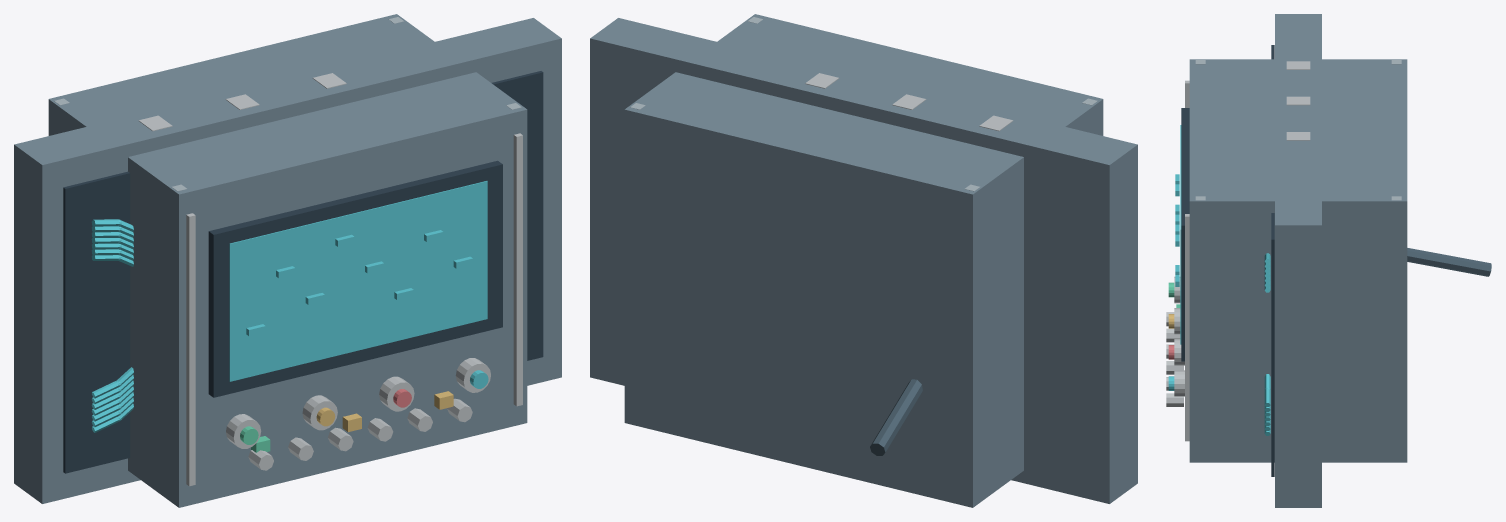
File: 45_L80_OpticalLinkBitErrorRateTester.glb
3 views of the same model, side by side, from view 1: azimuth 30°, elevation 25°; view 2: azimuth 150°, elevation 25°; view 3: azimuth 270°, elevation 25° (orthographic). The views are drawn at different scales.
Parts seen in each view (by area): view 1: OpticalLinkBitErrorRateTester_Node_0000, OpticalLinkBitErrorRateTester_Node_0035, OpticalLinkBitErrorRateTester_Node_0008, OpticalLinkBitErrorRateTester_Node_0036, OpticalLinkBitErrorRateTester_Node_0007, OpticalLinkBitErrorRateTester_Node_0005, OpticalLinkBitErrorRateTester_Node_0006, OpticalLinkBitErrorRateTester_Node_0021, OpticalLinkBitErrorRateTester_Node_0023, OpticalLinkBitErrorRateTester_Node_0017, OpticalLinkBitErrorRateTester_Node_0019; view 2: OpticalLinkBitErrorRateTester_Node_0000, OpticalLinkBitErrorRateTester_Node_0035, OpticalLinkBitErrorRateTester_Node_0034; view 3: OpticalLinkBitErrorRateTester_Node_0000, OpticalLinkBitErrorRateTester_Node_0035, OpticalLinkBitErrorRateTester_Node_0007, OpticalLinkBitErrorRateTester_Node_0034, OpticalLinkBitErrorRateTester_Node_0006, OpticalLinkBitErrorRateTester_Node_0036, OpticalLinkBitErrorRateTester_Node_0008.
Boxes of the visible parts, x1,y1,x2,y2 form: OpticalLinkBitErrorRateTester_Node_0000: (48,14,527,507); OpticalLinkBitErrorRateTester_Node_0035: (14,18,561,503); OpticalLinkBitErrorRateTester_Node_0008: (229,181,487,381); OpticalLinkBitErrorRateTester_Node_0036: (63,71,543,473); OpticalLinkBitErrorRateTester_Node_0007: (208,160,502,397); OpticalLinkBitErrorRateTester_Node_0005: (186,213,195,486); OpticalLinkBitErrorRateTester_Node_0006: (513,133,522,406); OpticalLinkBitErrorRateTester_Node_0021: (379,376,414,411); OpticalLinkBitErrorRateTester_Node_0023: (455,358,490,392); OpticalLinkBitErrorRateTester_Node_0017: (226,414,261,448); OpticalLinkBitErrorRateTester_Node_0019: (302,395,337,430); OpticalLinkBitErrorRateTester_Node_0000: (624,14,1103,507); OpticalLinkBitErrorRateTester_Node_0035: (590,18,1137,503); OpticalLinkBitErrorRateTester_Node_0034: (870,379,922,455); OpticalLinkBitErrorRateTester_Node_0000: (1189,59,1407,462); OpticalLinkBitErrorRateTester_Node_0035: (1275,14,1321,507); OpticalLinkBitErrorRateTester_Node_0007: (1181,108,1189,361); OpticalLinkBitErrorRateTester_Node_0034: (1407,248,1491,276); OpticalLinkBitErrorRateTester_Node_0006: (1185,214,1189,441); OpticalLinkBitErrorRateTester_Node_0036: (1271,45,1274,476); OpticalLinkBitErrorRateTester_Node_0008: (1180,125,1181,344).
Size of the model in its own units: 1.7 by 1.06 by 1.11.
